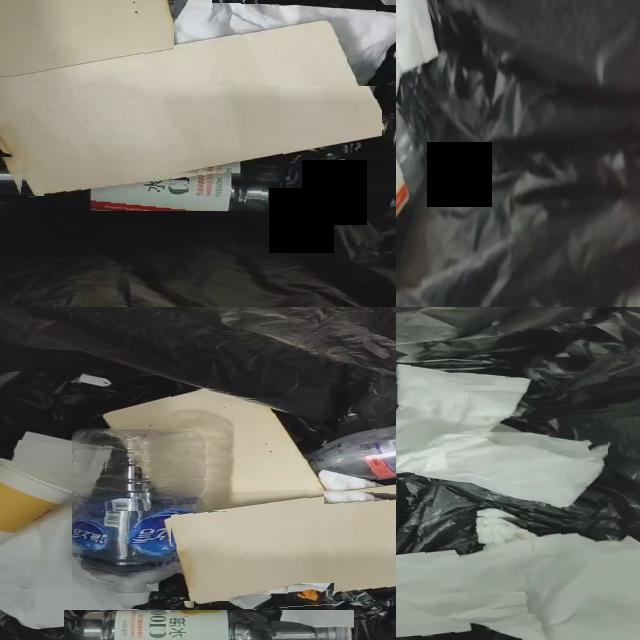bottle: (72, 431, 203, 609), (44, 171, 286, 211), (64, 611, 354, 640), (309, 425, 396, 483)
carton: (0, 0, 382, 196), (105, 390, 324, 511), (171, 497, 396, 601)
dixie_cup: (0, 459, 73, 542)
paper: (396, 515, 640, 640), (396, 365, 608, 507), (174, 0, 396, 86), (0, 506, 136, 629), (8, 432, 76, 494), (229, 583, 331, 611), (319, 470, 374, 491)
